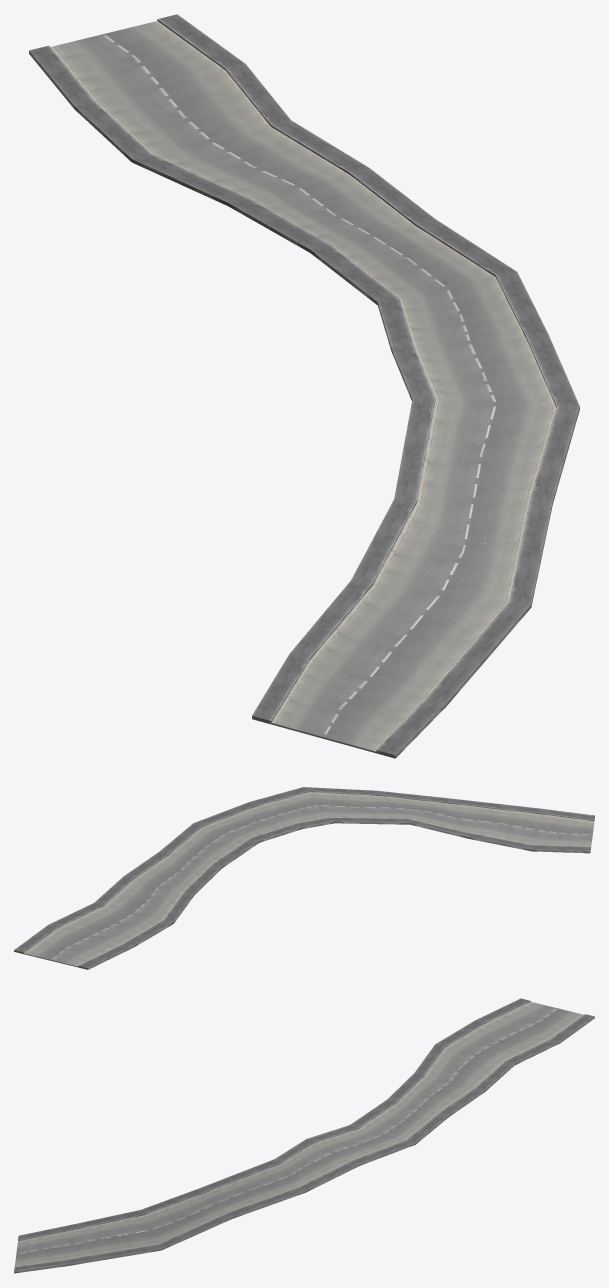
The model's file is curved road done.fbx.
3 renders of one model, top to bottom at view 1: azimuth 30°, elevation 25°; view 2: azimuth 150°, elevation 25°; view 3: azimuth 330°, elevation 25°, orthographic. The views are drawn at different scales.
Parts seen in each view (by area): view 1: polySurface1; view 2: polySurface1; view 3: polySurface1.
Part boxes in pixels (x1,y1,x2,y2): polySurface1: [29, 14, 579, 758]; polySurface1: [14, 787, 594, 969]; polySurface1: [14, 998, 594, 1273].
Size of the model in its own units: 32.35 by 7.14 by 71.73.
